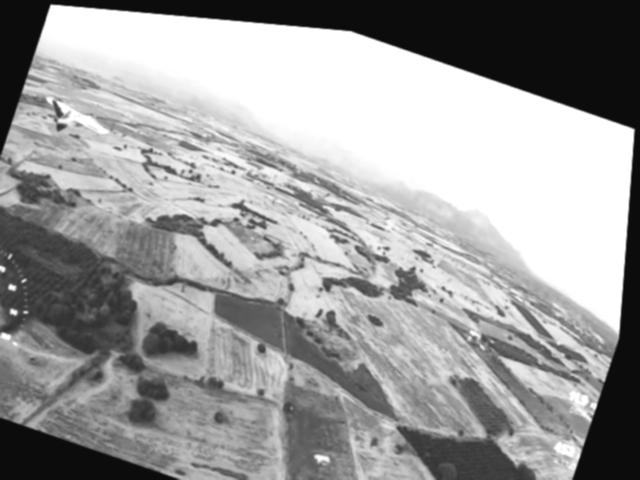hedef: (36, 88, 128, 150)
